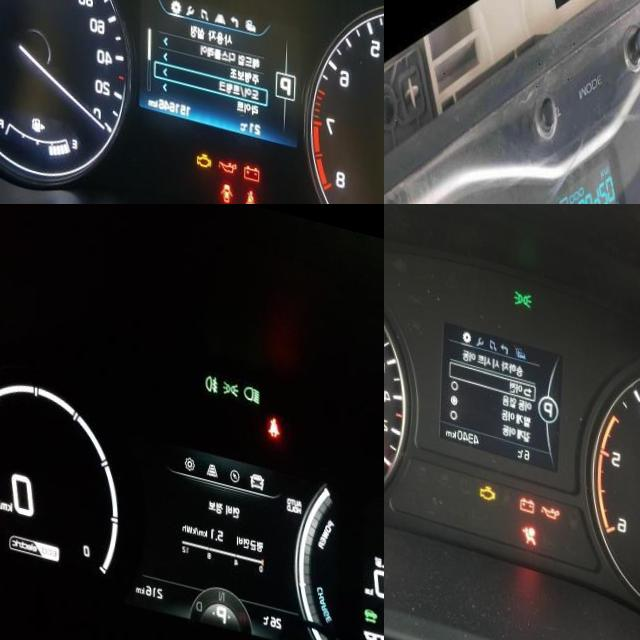FrontFogLight: (207, 360, 220, 382)
Low beam: (245, 369, 262, 390)
SideLamp: (515, 273, 534, 294), (224, 364, 241, 384)
